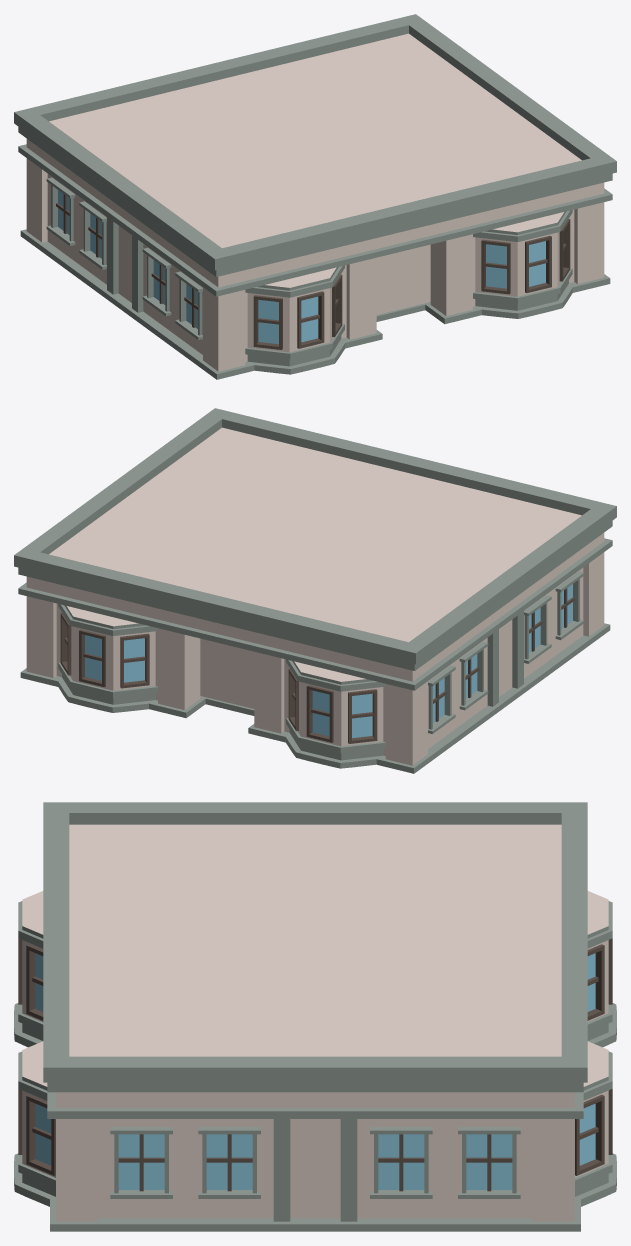
File: modular2_building_rooflayer.glb
3 renders of one model, top to bottom at view 1: azimuth 30°, elevation 25°; view 2: azimuth 150°, elevation 25°; view 3: azimuth 270°, elevation 25°, orthographic. The views are drawn at different scales.
Visible parts, largest first — view 1: Roof; view 2: Roof; view 3: Roof.
Boxes of the visible parts, bbox=[...] form: Roof: bbox=[14, 14, 616, 379]; Roof: bbox=[14, 408, 616, 773]; Roof: bbox=[14, 802, 616, 1231].
Size of the model in its own units: 15 by 4.4 by 14.4.
